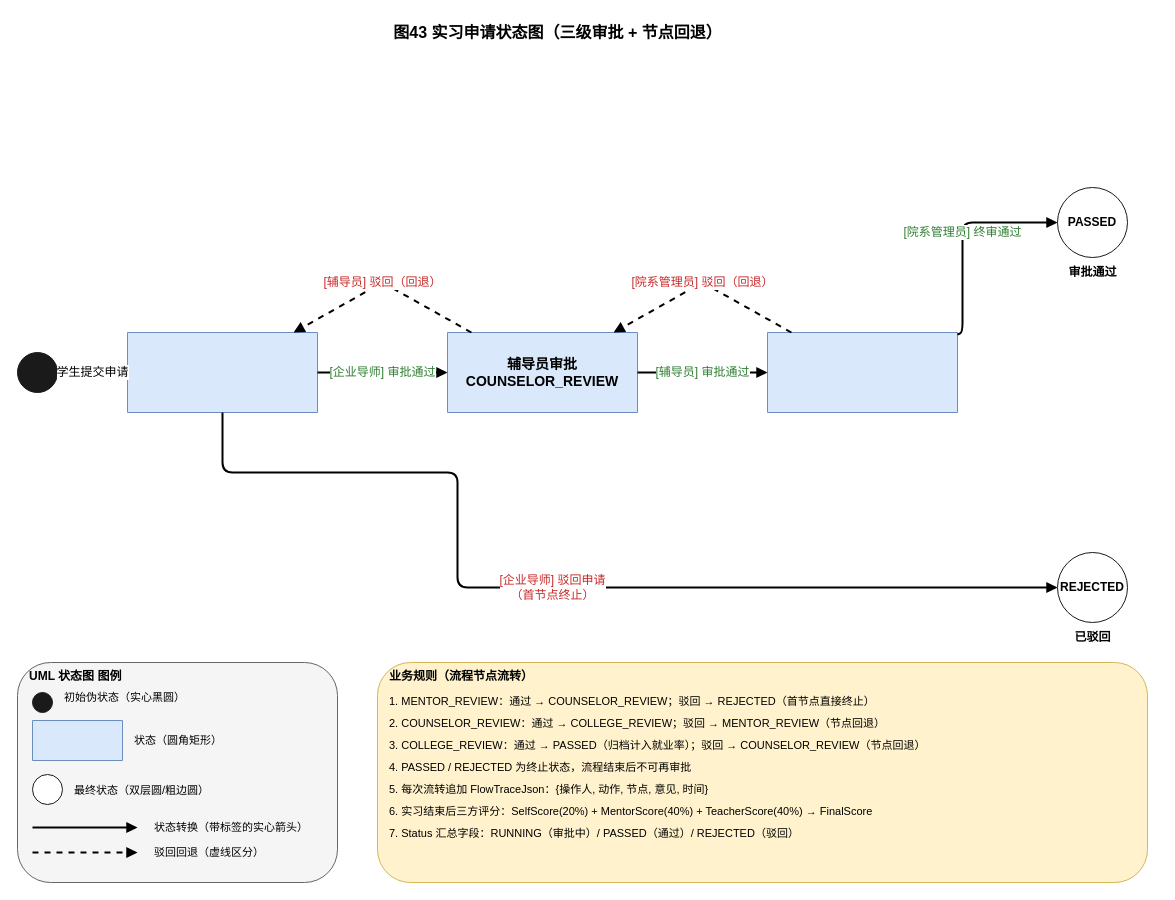
Some shapes in this 1175 by 900 pixel diagram are drawn without their labels. Here are the shapes that lost their labels. From the top down, the centre of each, then its label:
At (222,372): "企业导师审批 MENTOR_REVIEW".
At (862,372): "院系管理员审批 COLLEGE_REVIEW".
At (77,740): "状态".
